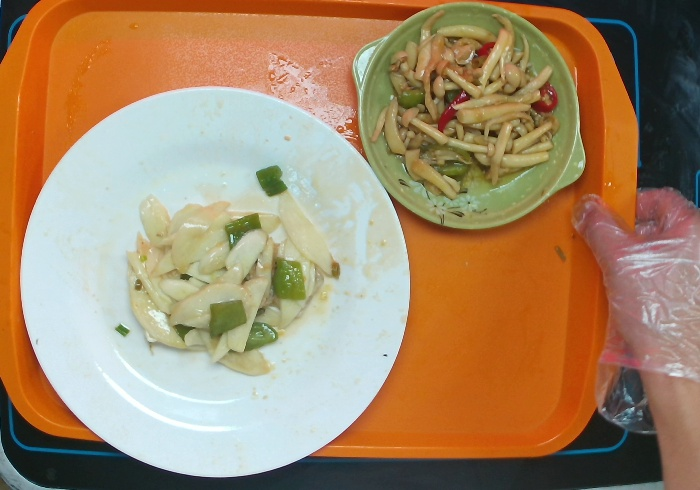NLDX-Da_Yuan_Pan: (14, 73, 420, 490)
NLDX-Lv_Hua_Shuang_Er_Die: (349, 1, 598, 236)
